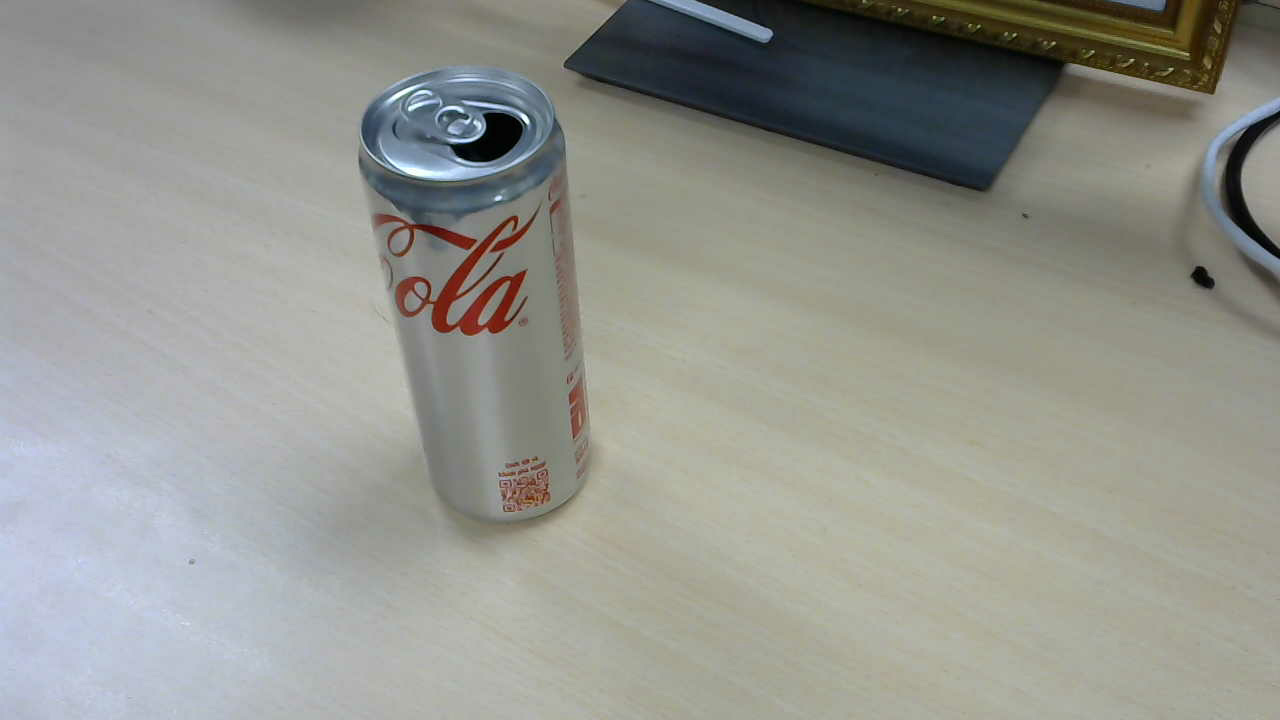Coca_Cola: (362, 72, 602, 532)
